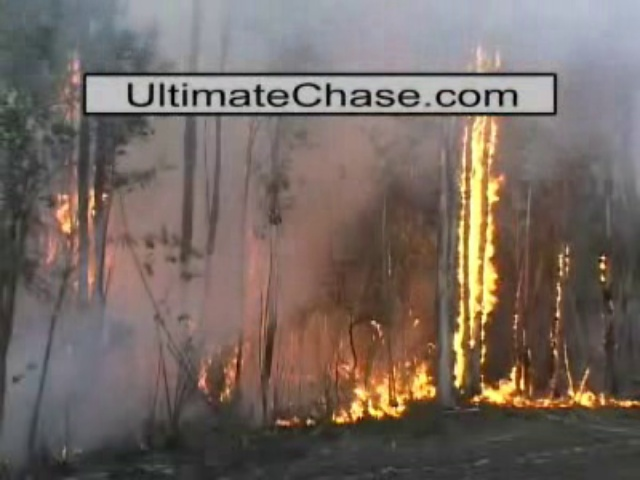fire: (457, 116, 497, 392), (345, 365, 438, 421), (477, 370, 606, 410)
